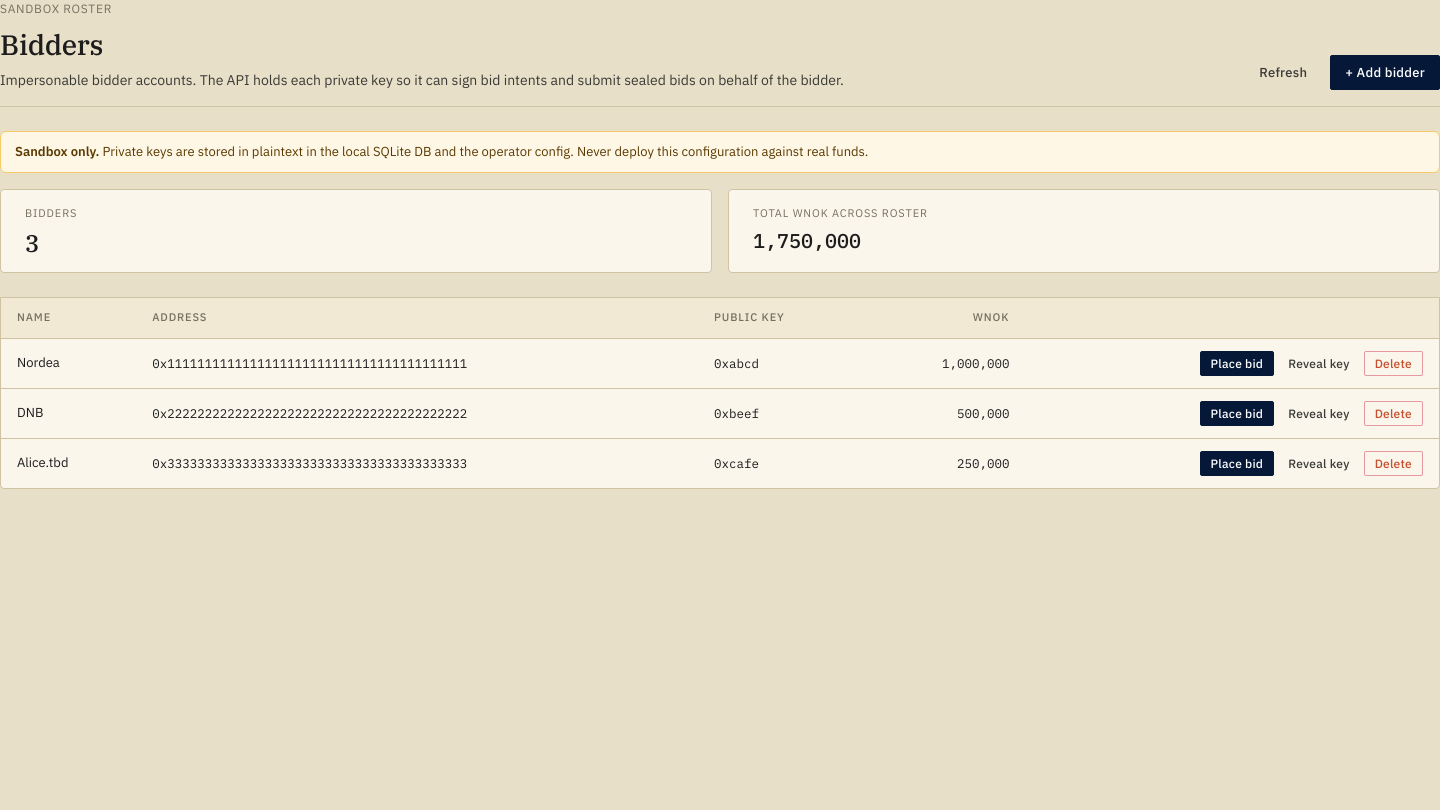
it: BiddersPage › opens the AddBidder modal with generate-vs-import radio
This screenshot has width=1440, height=810.
Click the button "+ Add bidder" at (1385, 73), box top-left (1330, 55), bottom-right (1439, 90)
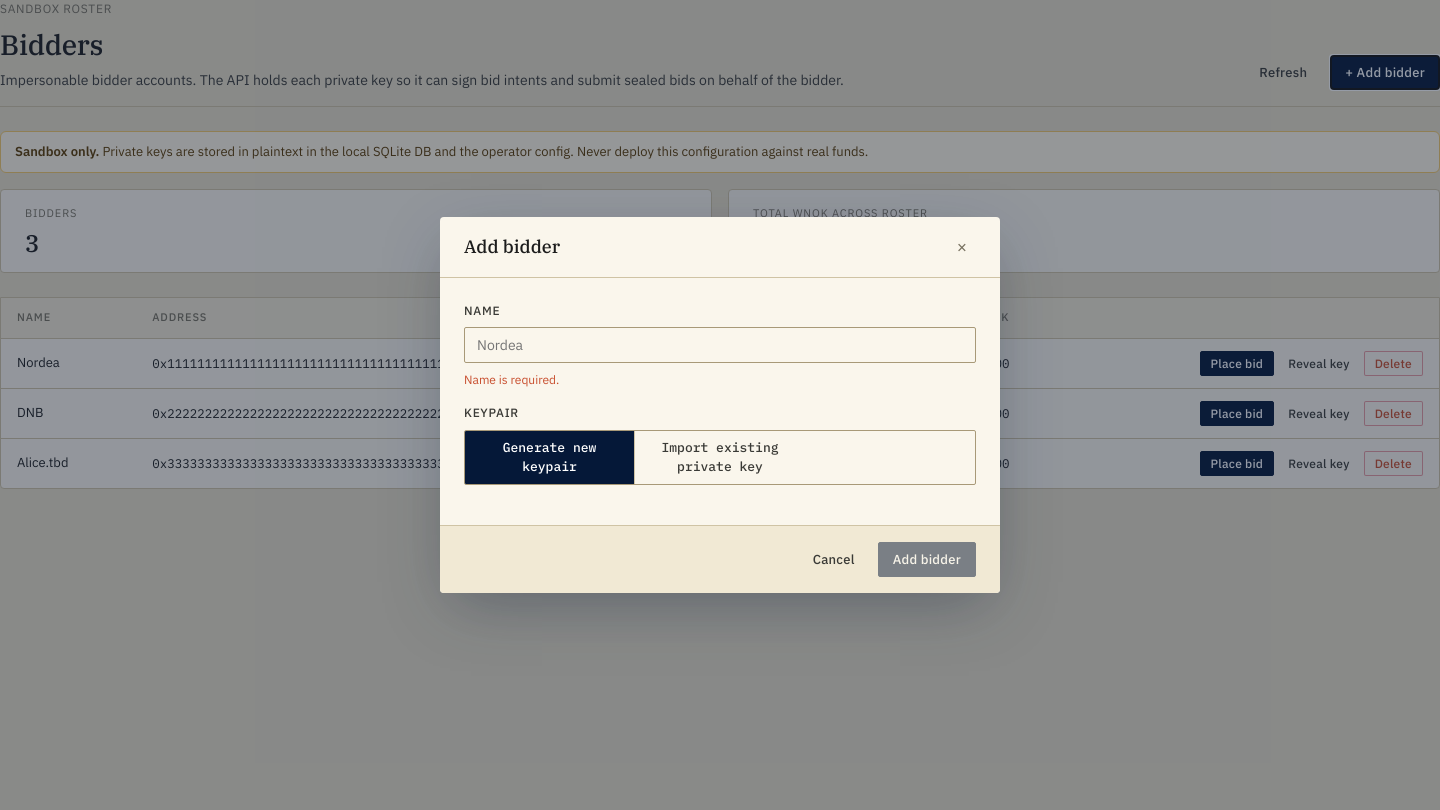
Expected: the heading "Add bidder" is shown, top-left (464, 234), bottom-right (560, 260)
Expected: the radio button labelled "Generate new keypair" is shown, top-left (465, 431), bottom-right (635, 484)
Expected: the radio button labelled "Import existing private key" is shown, top-left (635, 431), bottom-right (805, 484)
